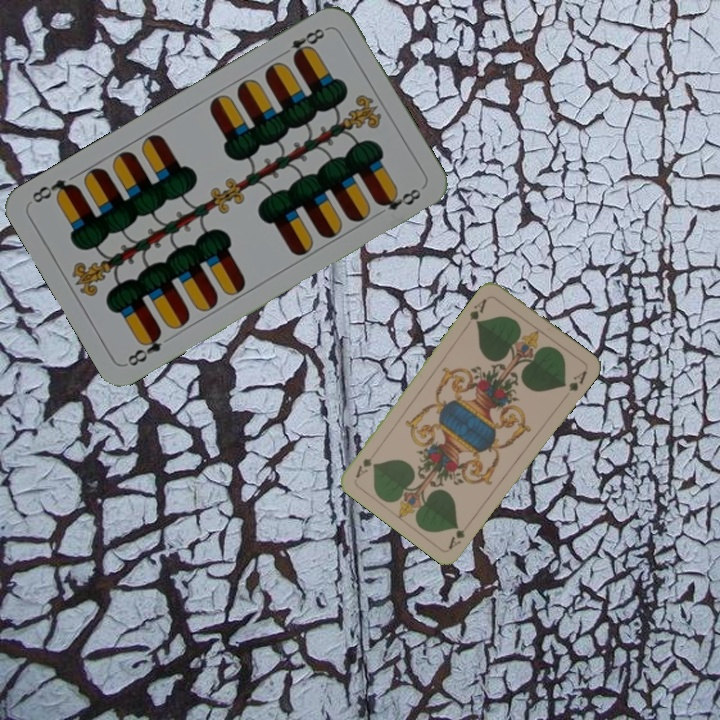E8: (277, 23, 331, 63), (122, 326, 165, 369)
GA: (465, 294, 489, 328), (445, 525, 467, 552)
